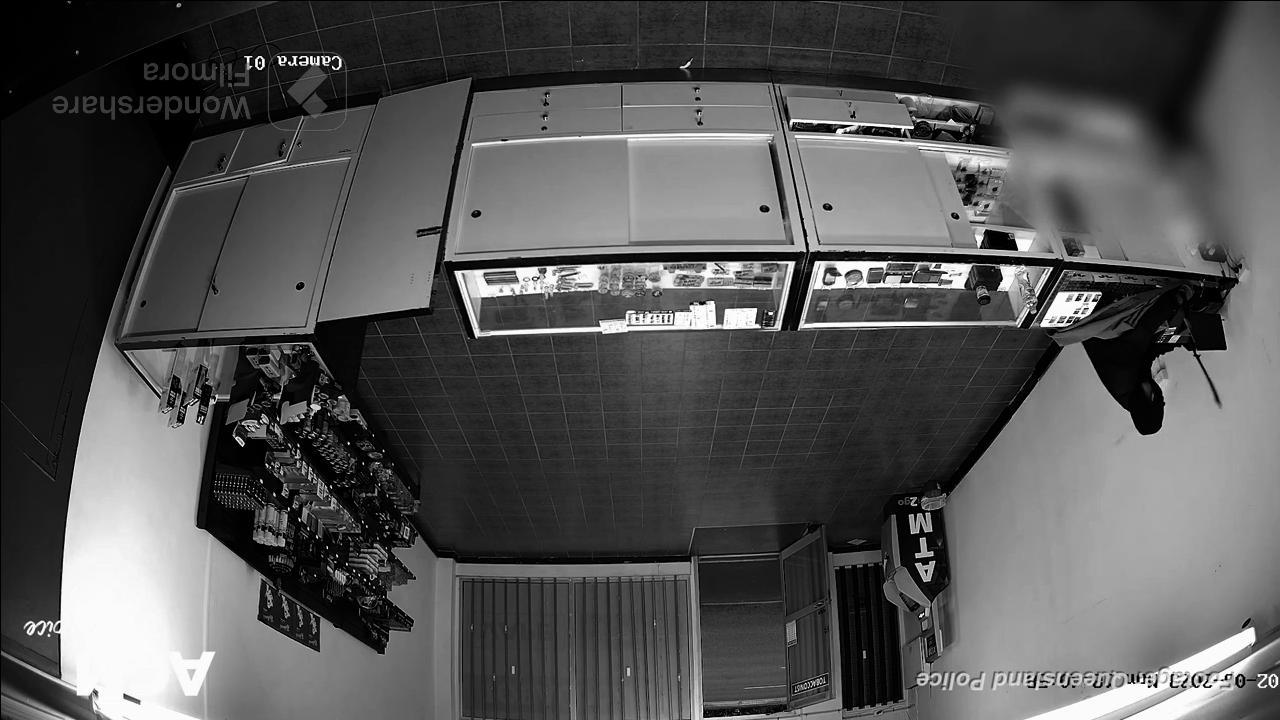melee: (1180, 344, 1223, 408)
